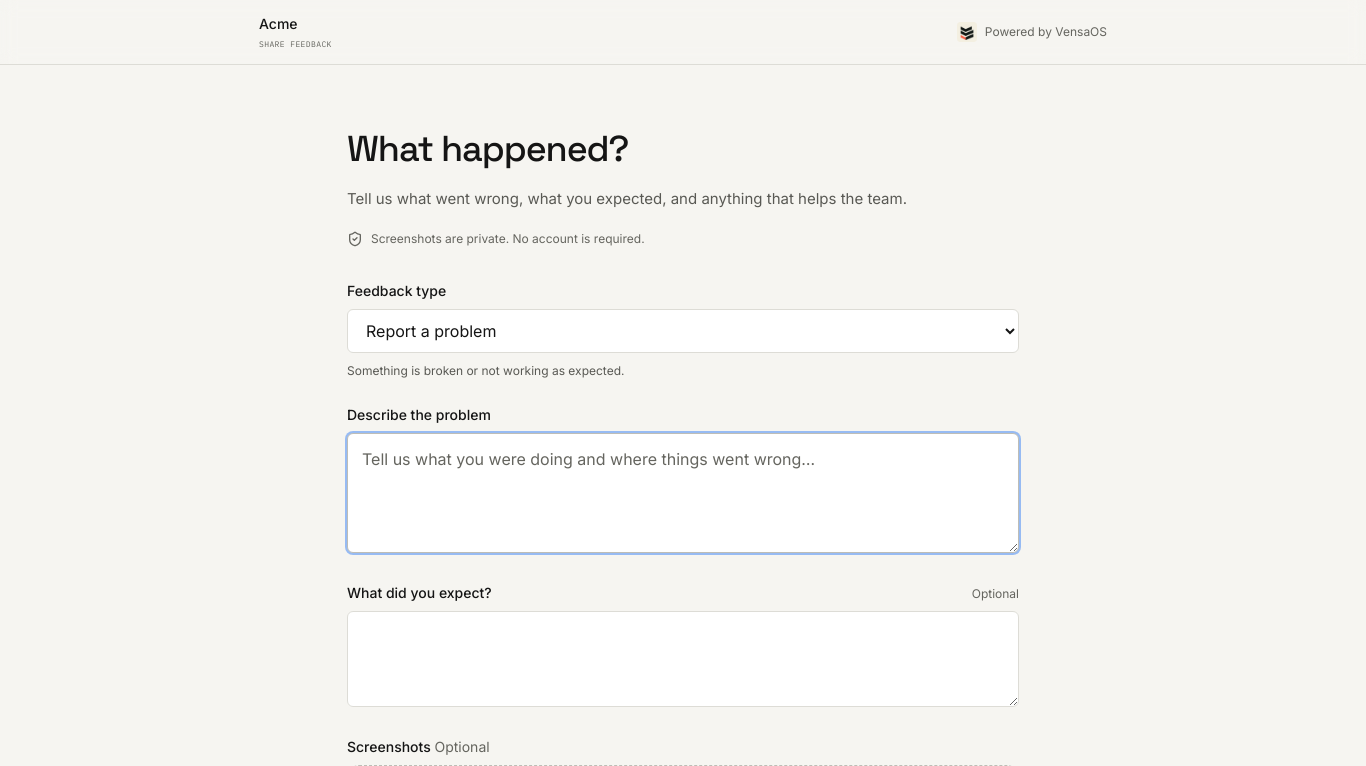
immediate submission processing result shows tracking and public code
Expected: the heading "What happened?" is shown, 347,126 -> 628,172
Type "Checkout overflows on mobile" into the text box labelled "Describe the problem" at (683, 493), box 347,433 -> 1019,553
(page scrolled)
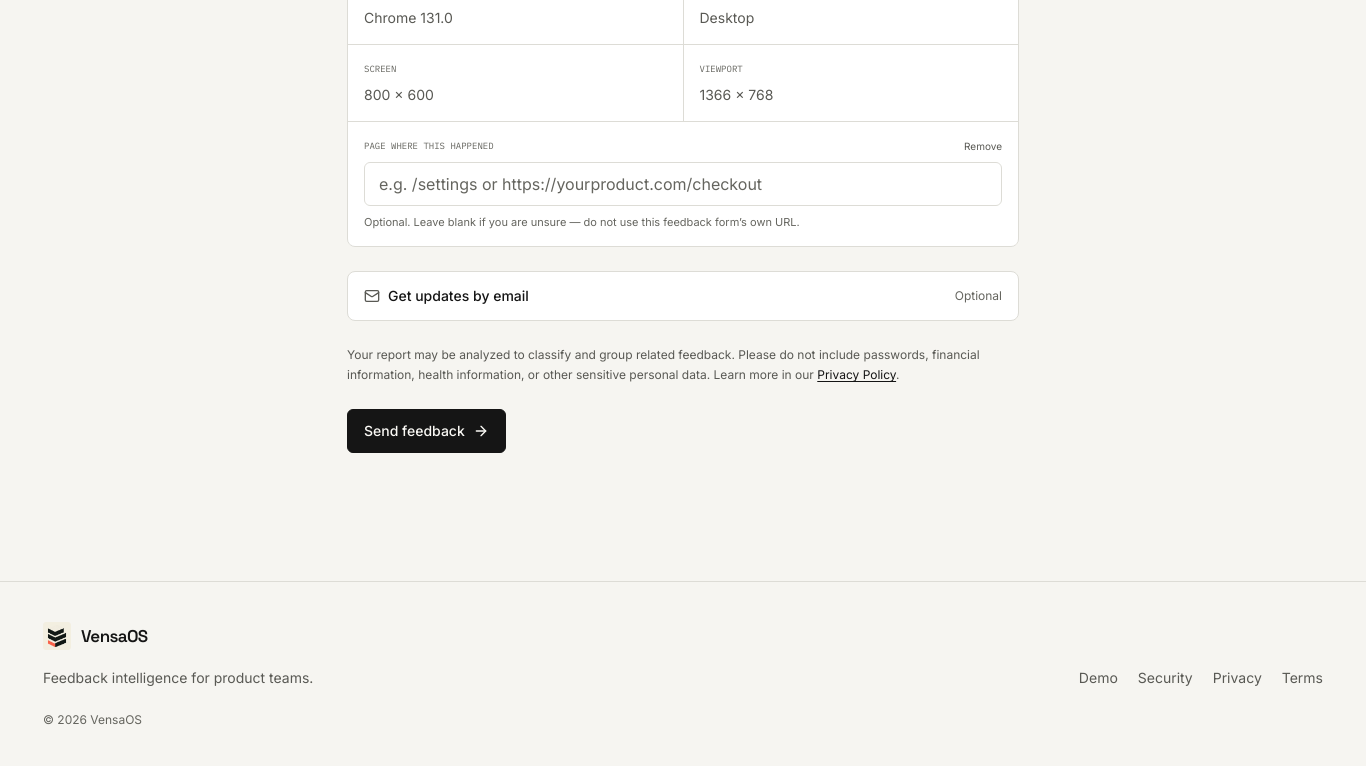
Click the button "Send feedback" at (426, 431), box 347,409 -> 506,453
(page scrolled)
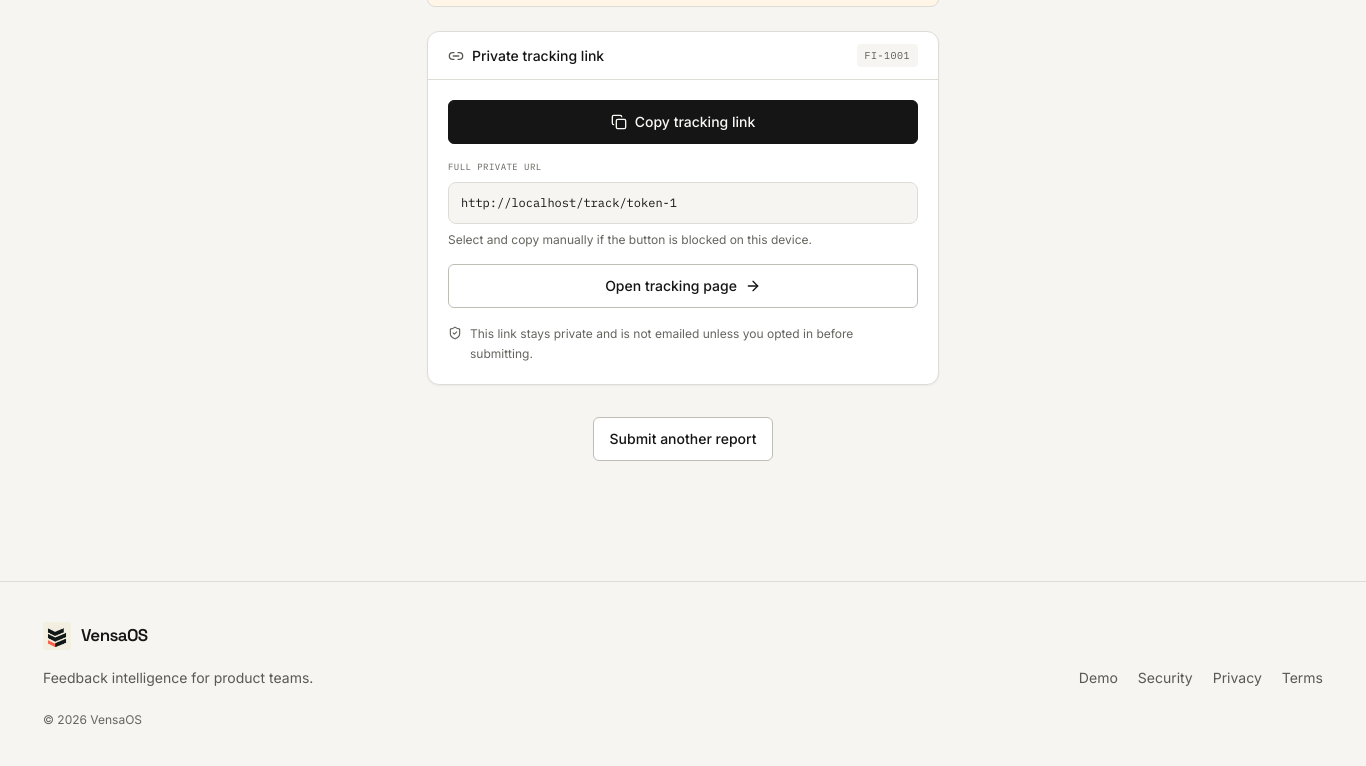
Expected: the text "FI-1001" is shown, 856,44 -> 918,67
Expected: the text "http://localhost/track/token-1" is shown, 461,195 -> 677,210
Expected: the button "Copy tracking link" is shown, 448,100 -> 918,144
